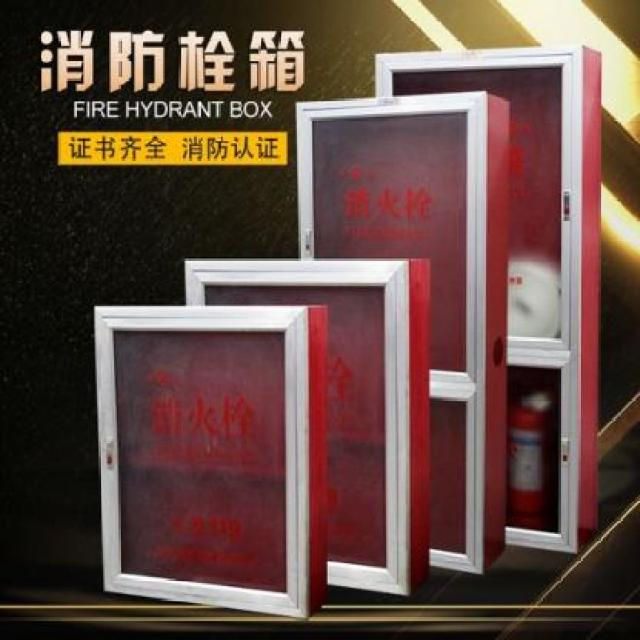firehydrant: (371, 37, 604, 561), (294, 88, 513, 579), (182, 256, 434, 602), (91, 300, 332, 625)
